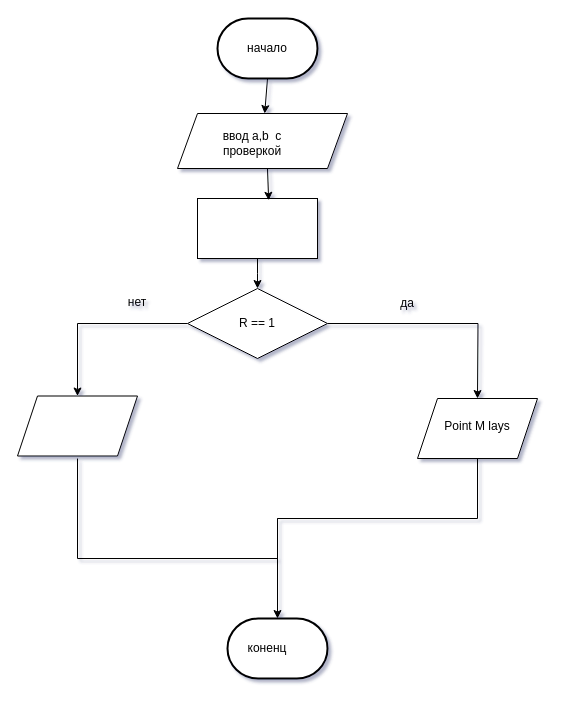
This 561x702 diagram has some shape labels left out. The shapes that lost their labels are listed below. From the top down, each one's centre as x and y in pixels, then its label:
(257,228): R = a * a + b * b
(77,425): false
